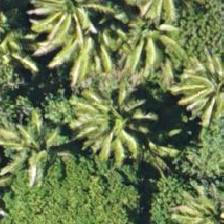Kelapa_Sawit: (63, 77, 153, 167), (0, 105, 73, 195), (167, 45, 223, 136), (40, 0, 130, 56), (163, 177, 223, 223)
